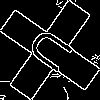U: (25, 25, 83, 81)
